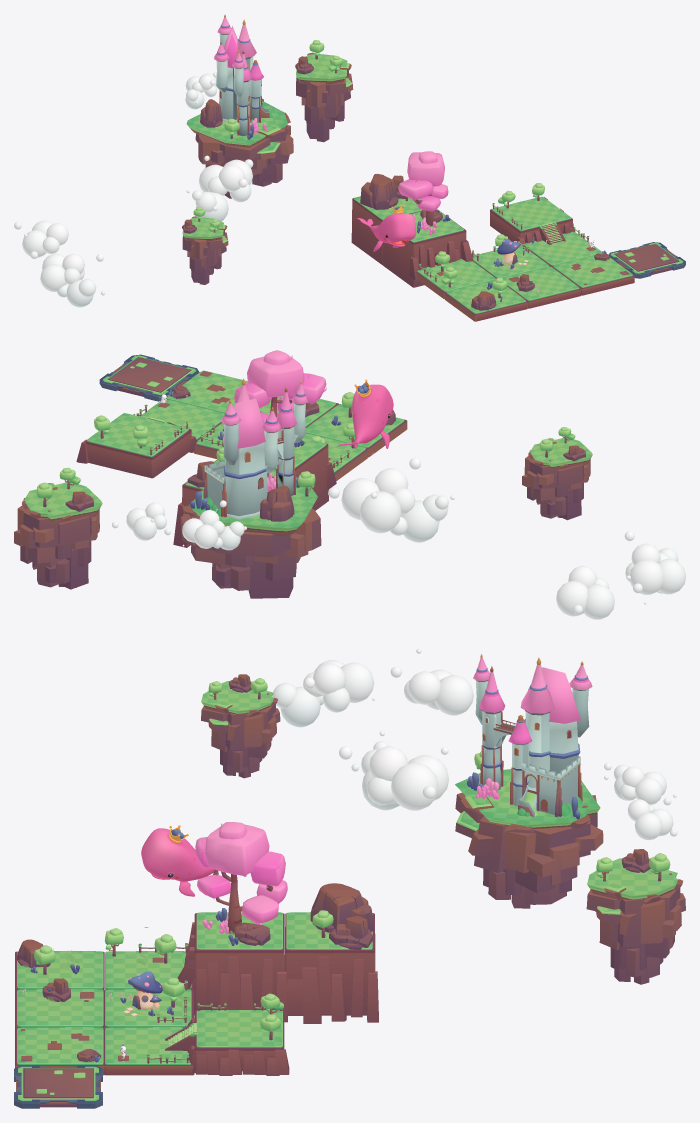
Rendered from fantasyLand.glb.
3 views of the same model, one above another, from view 1: azimuth 30°, elevation 25°; view 2: azimuth 150°, elevation 25°; view 3: azimuth 270°, elevation 25° (orthographic). The views are drawn at different scales.
Visible parts, largest first — view 1: birch_red_mat-material.077, birch_red_mat_001-material.029, birch_red_mat-material.075, birch_red_mat-material.079, birch_red_mat_001-material.028, birch_red_mat_001-material.014, birch_red_mat-material.025, birch_red_mat-material.062, birch_red_mat-material.074, Material_001-material.008, Material_001-material.002, Material_001-material.003 (+18 smaller); view 2: birch_red_mat-material.077, birch_red_mat-material.075, birch_red_mat-material.079, birch_red_mat_001-material.028, birch_red_mat_001-material.029, birch_red_mat-material.074, birch_red_mat_001-material.014, birch_red_mat_001-material.040, birch_red_mat-material.062, birch_red_mat-material.008, Material_001-material.008, SpermWhale-material (+11 smaller); view 3: birch_red_mat-material.077, birch_red_mat-material.075, birch_red_mat-material.079, birch_red_mat_001-material.029, birch_red_mat_001-material.014, birch_red_mat_001-material.028, birch_red_mat-material.074, birch_red_mat-material.062, birch_red_mat_001-material.040, Material_001-material.008, Material_001-material.004, Material_001-material.002 (+20 smaller).
Boxes of the visible parts, box(x1,y1,x2,y2) form: birch_red_mat-material.077: box(214, 14, 272, 135); birch_red_mat_001-material.029: box(14, 220, 105, 307); birch_red_mat-material.075: box(187, 98, 293, 198); birch_red_mat-material.079: box(296, 52, 353, 142); birch_red_mat_001-material.028: box(186, 155, 253, 221); birch_red_mat_001-material.014: box(398, 151, 448, 226); birch_red_mat-material.025: box(382, 209, 466, 287); birch_red_mat-material.062: box(608, 242, 685, 278); birch_red_mat-material.074: box(182, 216, 228, 284); Material_001-material.008: box(492, 196, 571, 230); Material_001-material.002: box(553, 255, 632, 287); Material_001-material.003: box(524, 231, 602, 265); birch_red_mat-material.077: box(203, 378, 308, 519); birch_red_mat-material.075: box(180, 476, 321, 598); birch_red_mat-material.079: box(14, 483, 102, 589); birch_red_mat_001-material.028: box(328, 457, 454, 542); birch_red_mat_001-material.029: box(556, 531, 685, 619); birch_red_mat-material.074: box(522, 438, 592, 520); birch_red_mat_001-material.014: box(234, 350, 326, 422); birch_red_mat_001-material.040: box(112, 500, 246, 550); birch_red_mat-material.062: box(99, 354, 199, 401); birch_red_mat-material.008: box(85, 413, 191, 478); Material_001-material.008: box(87, 413, 188, 456); SpermWhale-material: box(338, 384, 393, 448); birch_red_mat-material.077: box(473, 654, 592, 816); birch_red_mat-material.075: box(455, 792, 603, 908); birch_red_mat-material.079: box(586, 873, 685, 984); birch_red_mat_001-material.029: box(272, 648, 473, 727); birch_red_mat_001-material.014: box(194, 822, 287, 934); birch_red_mat_001-material.028: box(339, 731, 448, 810); birch_red_mat-material.074: box(201, 693, 280, 778); birch_red_mat-material.062: box(14, 1065, 102, 1108); birch_red_mat_001-material.040: box(604, 762, 677, 840); Material_001-material.008: box(196, 1010, 282, 1047); Material_001-material.004: box(17, 989, 103, 1026); Material_001-material.002: box(17, 1027, 103, 1064).
Bounding box in the file's own units: 20.18 × 7.09 × 14.98.
6 materials, 6 textured.
